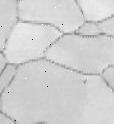good_void: (83, 79, 86, 84)
